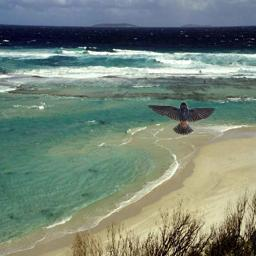Swallow: (145, 101, 216, 135)
